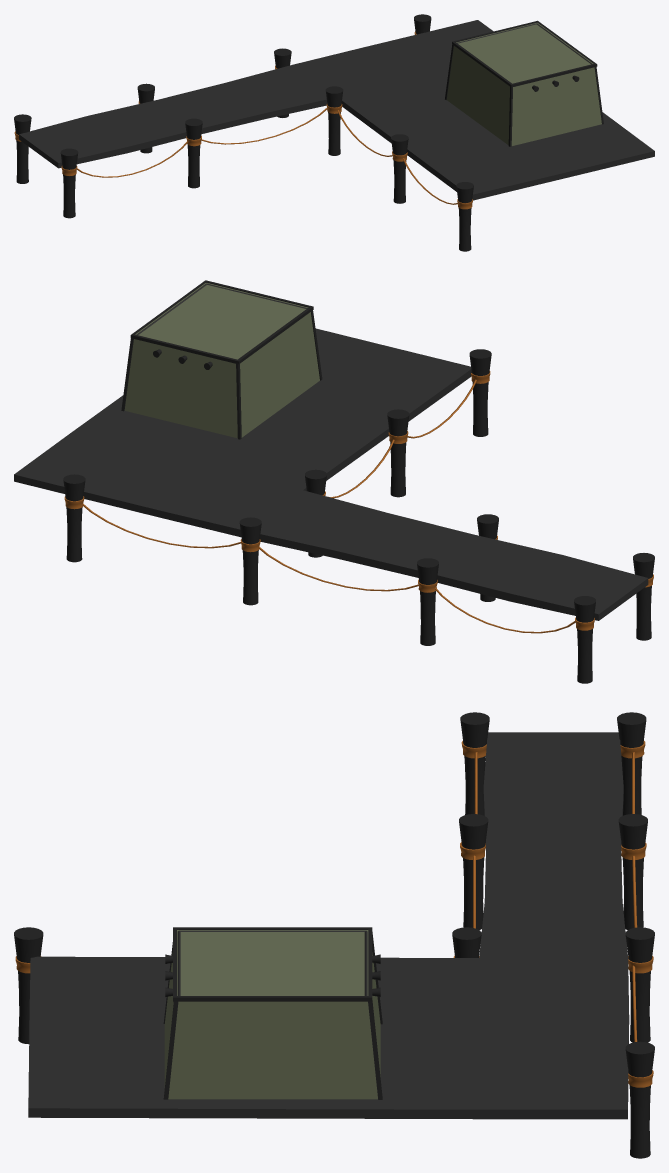
File: Dock_Stage_3.FBX
The picture shows the model from 3 angles, top to bottom: view 1: azimuth 30°, elevation 25°; view 2: azimuth 150°, elevation 25°; view 3: azimuth 270°, elevation 25°; orthographic projection. The views are drawn at different scales.
Visible parts, largest first — view 1: Dock_Large008; view 2: Dock_Large008; view 3: Dock_Large008.
Boxes of the visible parts, x1,y1,x2,y2 form: Dock_Large008: [14, 14, 654, 251]; Dock_Large008: [14, 280, 654, 683]; Dock_Large008: [14, 712, 654, 1158].
Bounding box in the file's own units: 199 × 45.61 × 143.
